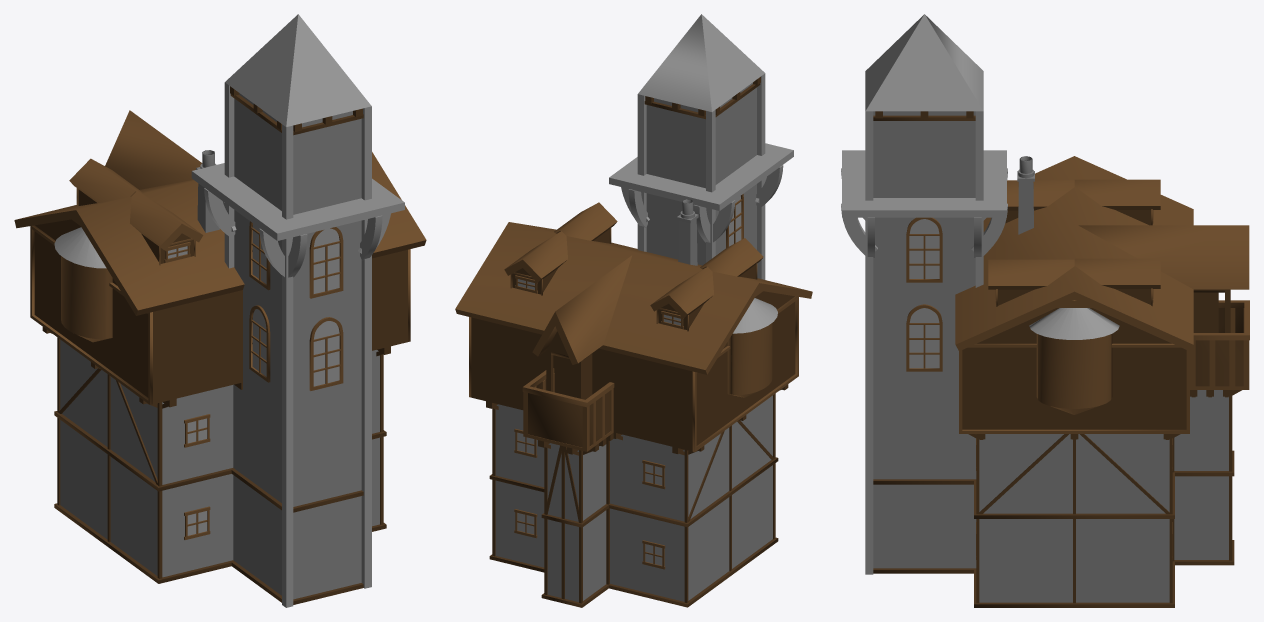
File: Medieval Houses(3).glb
The picture shows the model from 3 angles, left to right: view 1: azimuth 30°, elevation 25°; view 2: azimuth 150°, elevation 25°; view 3: azimuth 270°, elevation 25°; orthographic projection. The views are drawn at different scales.
Visible parts, largest first — view 1: Root; view 2: Root; view 3: Root.
Part boxes in pixels (<box>): Root: <box>14,14,426,607</box>; Root: <box>455,14,812,607</box>; Root: <box>841,14,1249,607</box>.
Size of the model in its own units: 9.27 by 15.75 by 10.8.
